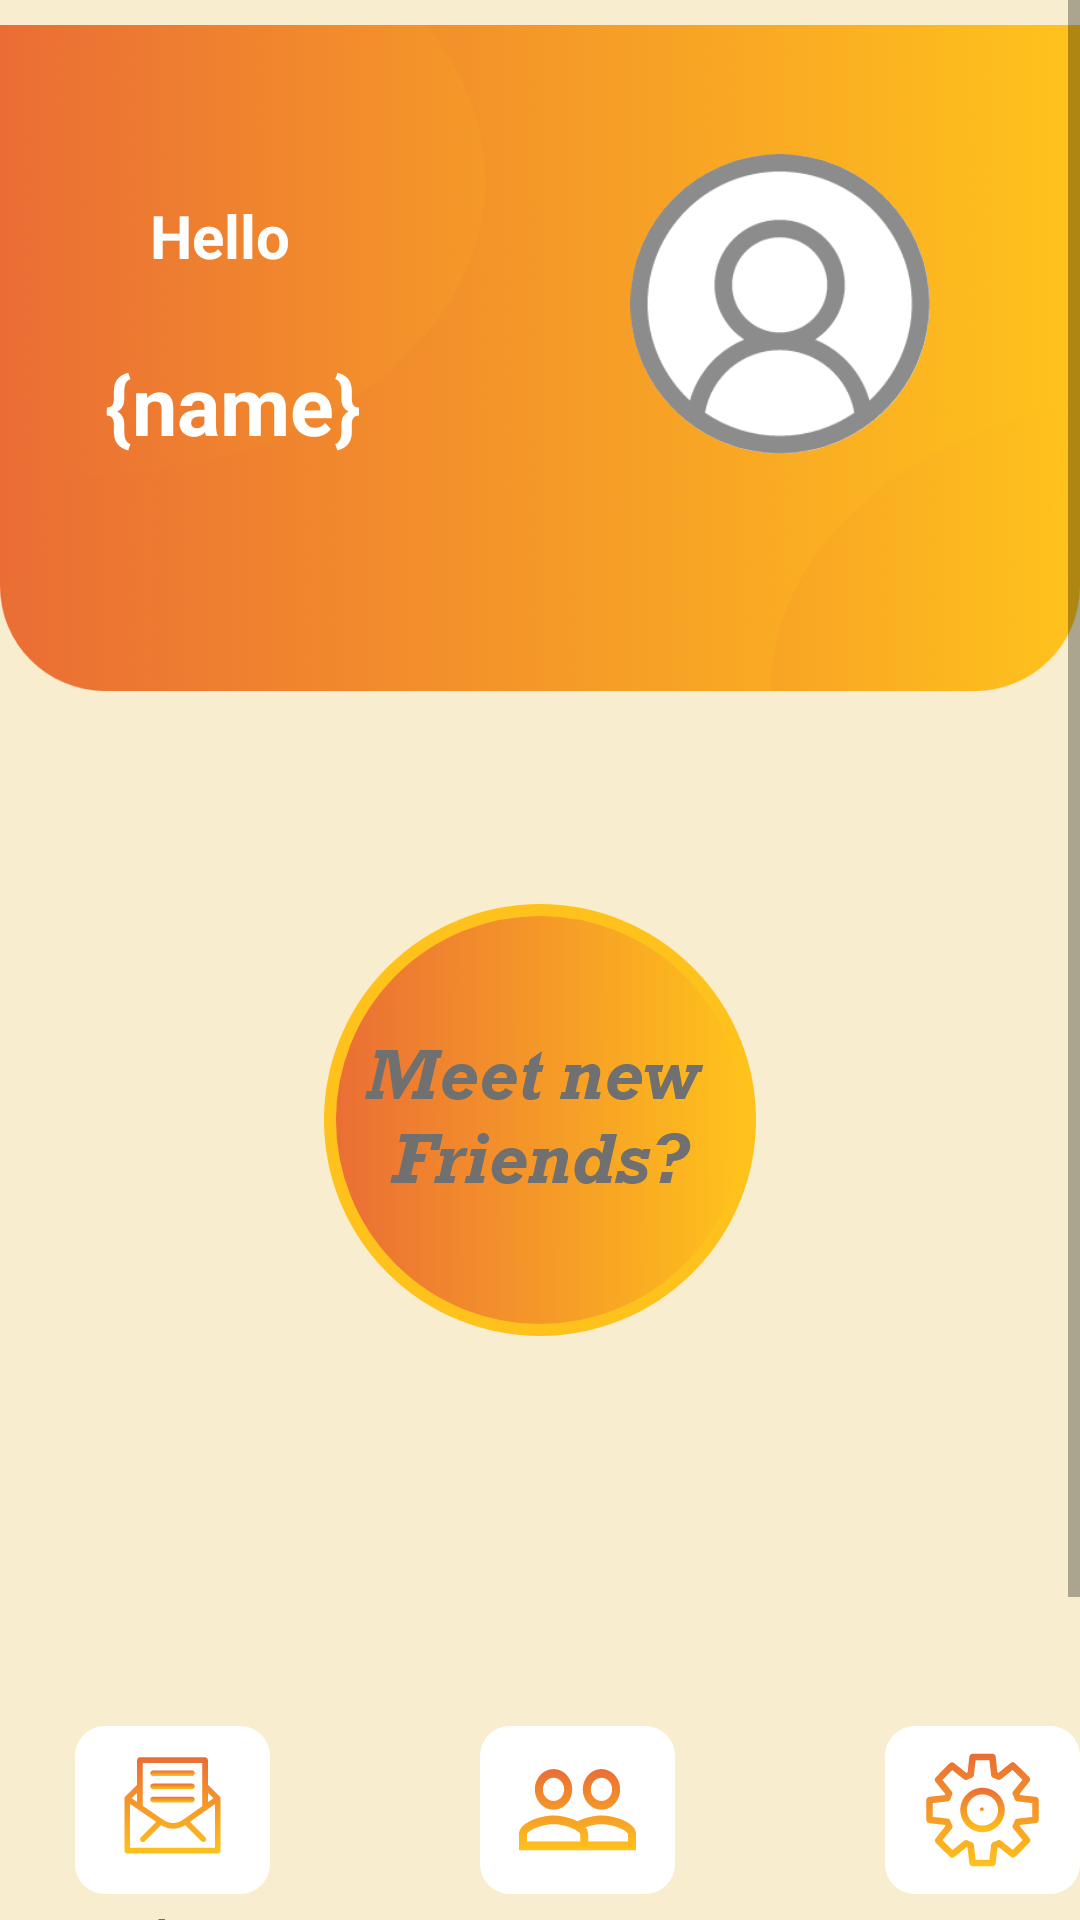

Point at icon controls on the screen. Image size 1080px x 1920px, points as (x=x, y=y).
profile pic: (x=780, y=304)
